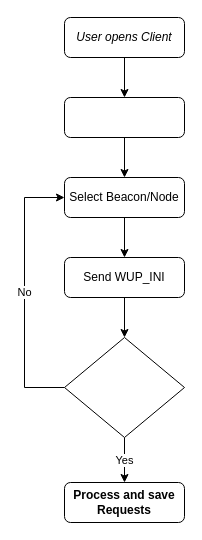
Image size: 202x540. Some labels were removed from this diagram. Each missing label, with the centre of its shape:
"Get most recent received Request" belongs at (x=124, y=117).
"Responds with WUP_REP?" belongs at (x=124, y=387).
